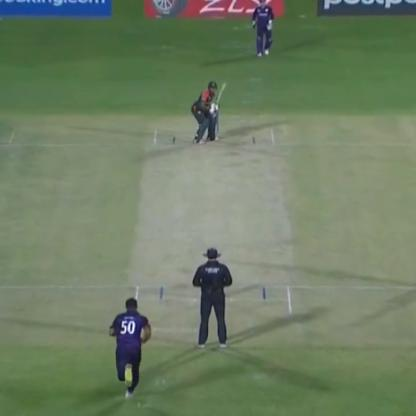bat: (213, 79, 230, 119)
pitch: (132, 119, 300, 338)
